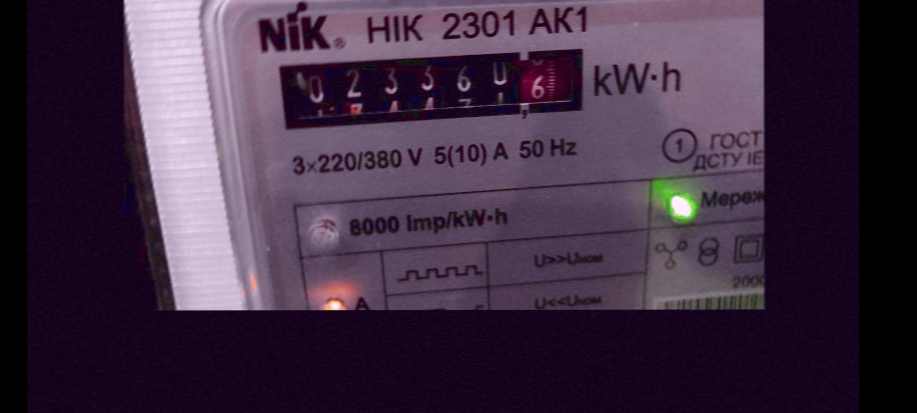0: (304, 72, 326, 106), (487, 58, 509, 89)
2: (343, 67, 363, 100)
3: (417, 60, 436, 93), (379, 66, 398, 97)
6: (452, 62, 473, 95), (527, 71, 548, 104)
screen: (262, 41, 600, 137)
